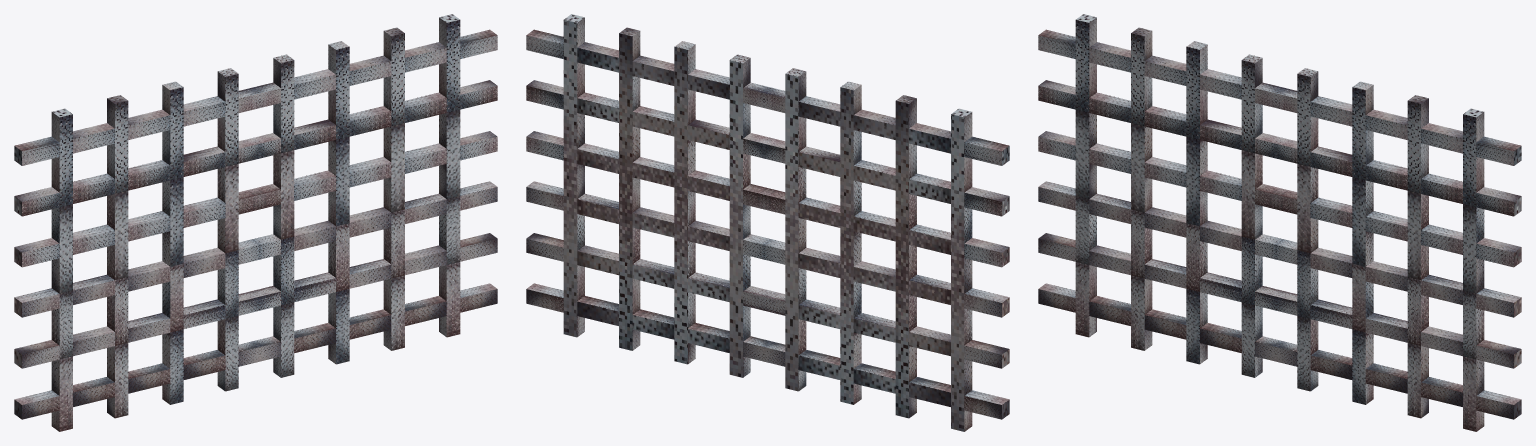
File: bars.fbx
The picture shows the model from 3 angles, left to right: view 1: azimuth 30°, elevation 25°; view 2: azimuth 150°, elevation 25°; view 3: azimuth 330°, elevation 25°; orthographic projection.
Visible parts, largest first — view 1: Cube; view 2: Cube; view 3: Cube.
Part boxes in pixels (left/top/right/bottom): Cube: left=14, top=14, right=497, bottom=431; Cube: left=526, top=14, right=1009, bottom=431; Cube: left=1038, top=14, right=1521, bottom=431.
Bounding box in the file's own units: 6.86 × 4.34 × 0.1937.
